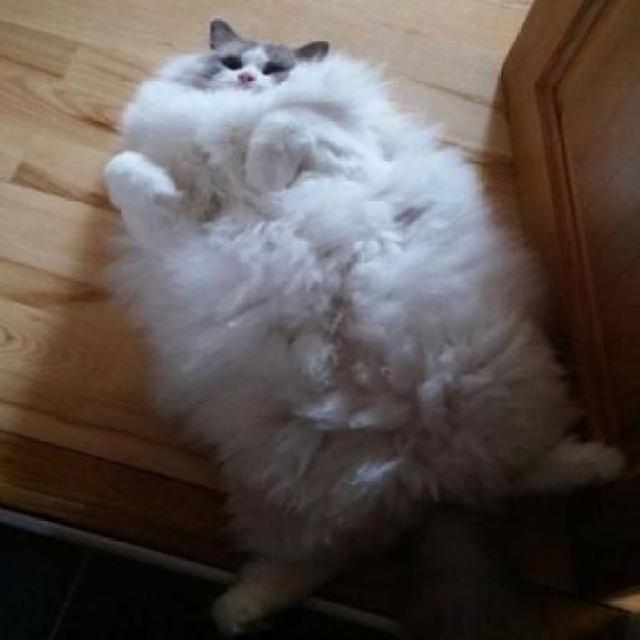cat: (126, 27, 516, 511)
